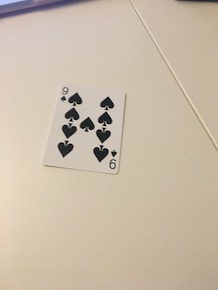NineOfSpades: (40, 81, 130, 176)
